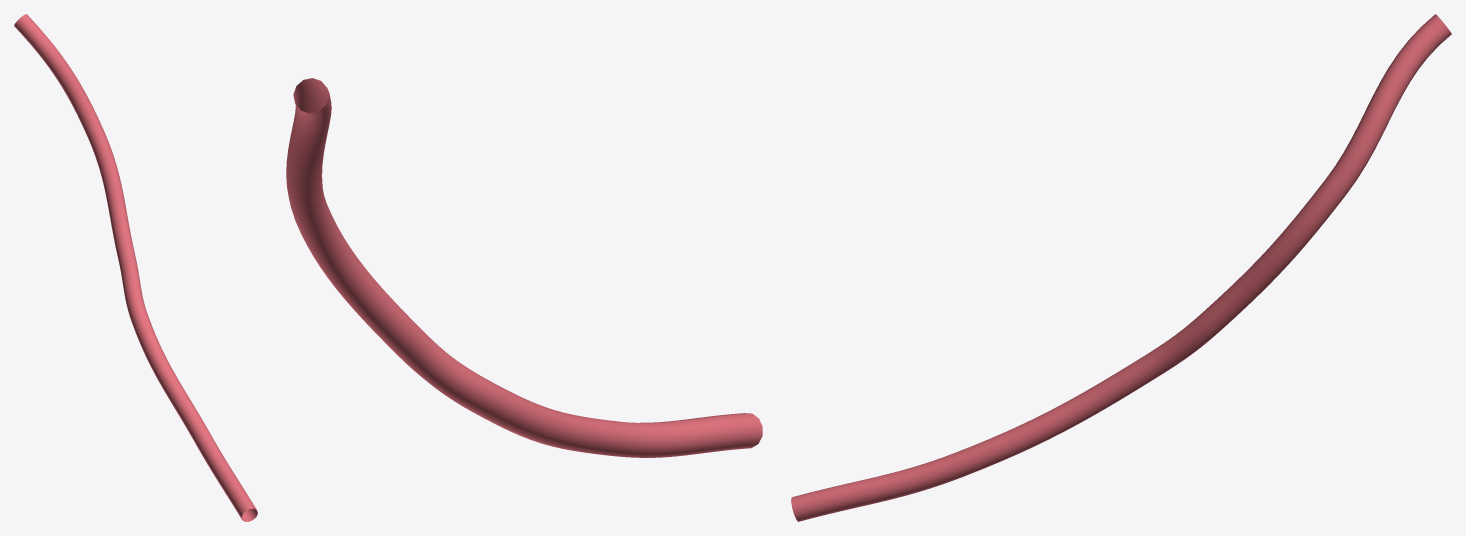
3 renders of one model, left to right at view 1: azimuth 30°, elevation 25°; view 2: azimuth 150°, elevation 25°; view 3: azimuth 270°, elevation 25°, orthographic. The views are drawn at different scales.
Visible parts, largest first — view 1: ZA_99de5137fb7f8a15; view 2: ZA_99de5137fb7f8a15; view 3: ZA_99de5137fb7f8a15.
Boxes of the visible parts, x1,y1,x2,y2 form: ZA_99de5137fb7f8a15: [14, 14, 257, 521]; ZA_99de5137fb7f8a15: [286, 78, 762, 457]; ZA_99de5137fb7f8a15: [791, 14, 1451, 521].
Bounding box in the file's own units: 0.00486 × 0.0299 × 0.0356.
